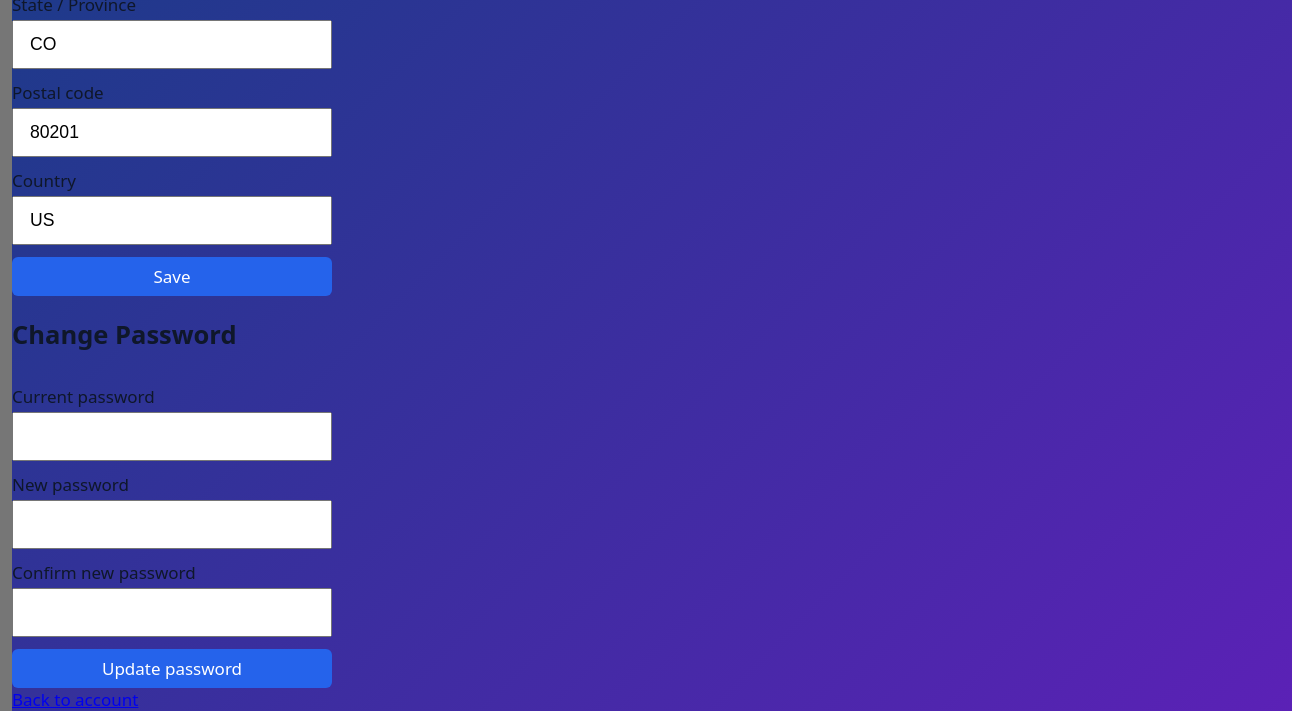
it: EditProfileView › Change Password › shows error when new passwords do not match
(page scrolled)
Type "oldpass1" into the password field labelled "Current password".
click(172, 436); type("oldpass1")  # box [12,412,332,461]
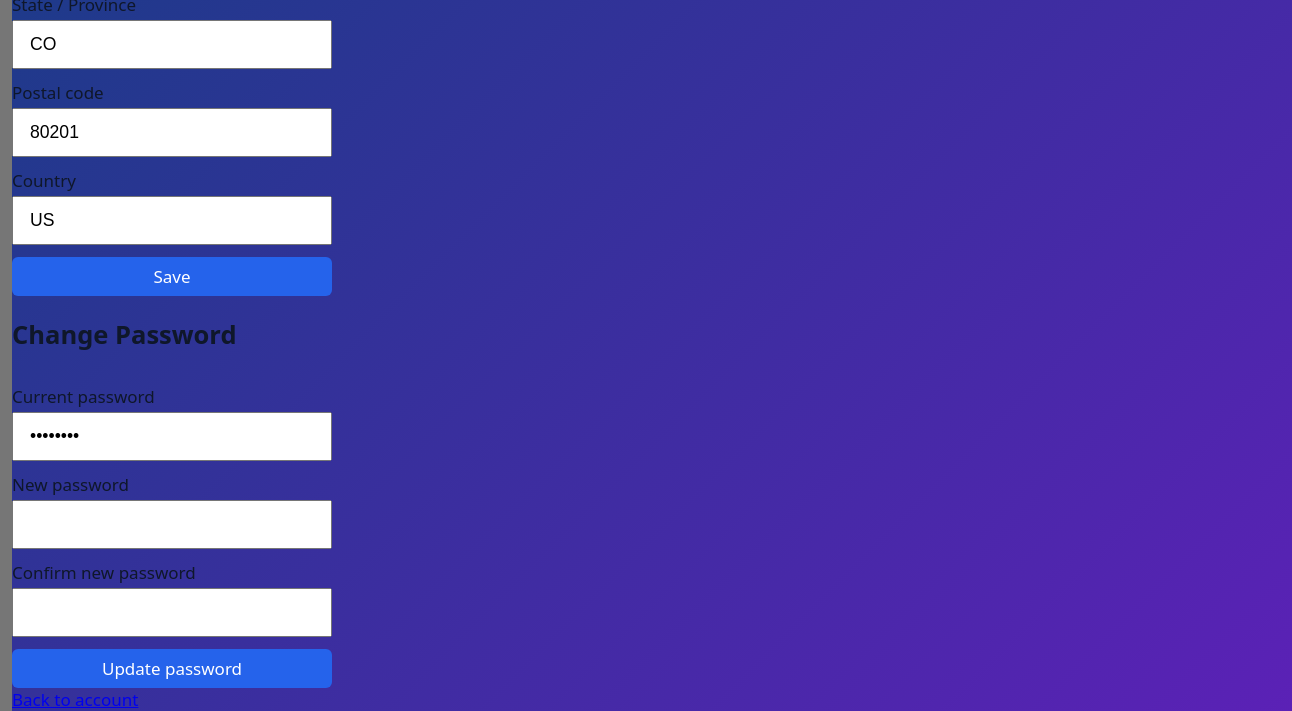
Type "newpass123" into the password field labelled "New password".
click(172, 524); type("newpass123")  # box [12,500,332,549]
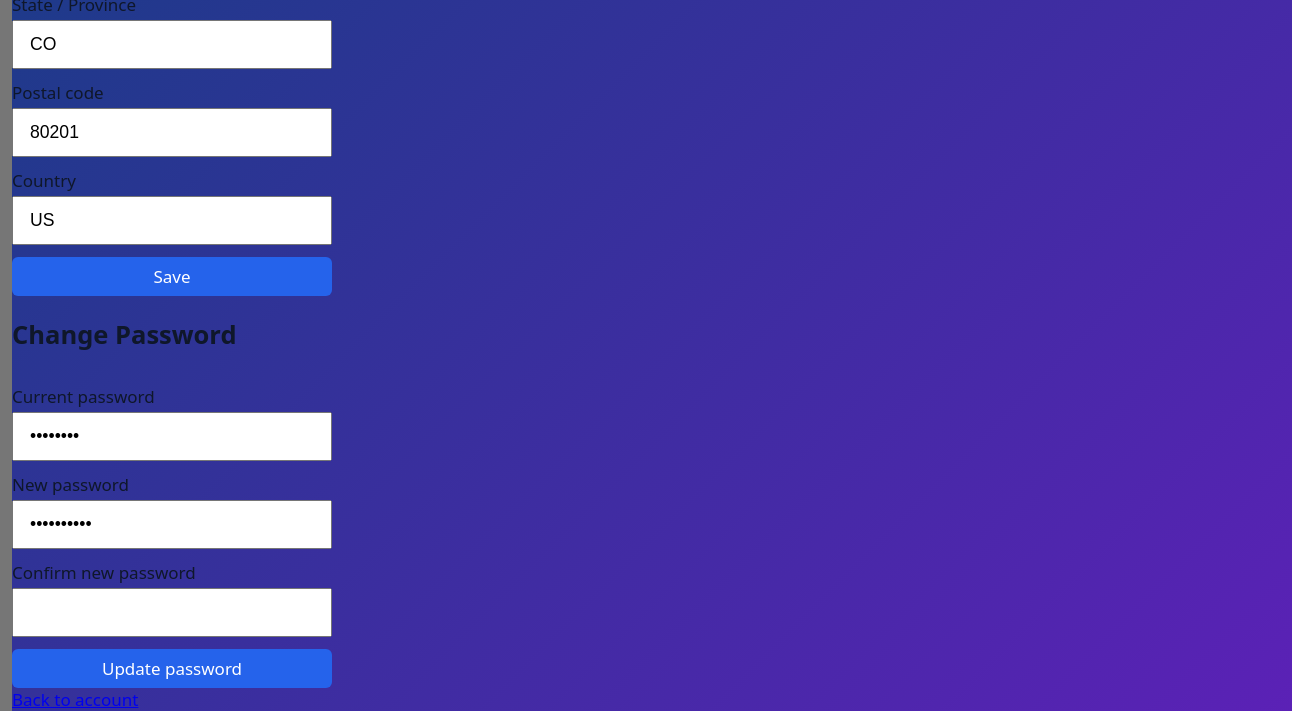
Type "different" into the password field labelled "Confirm new password".
click(172, 612); type("different")  # box [12,588,332,637]
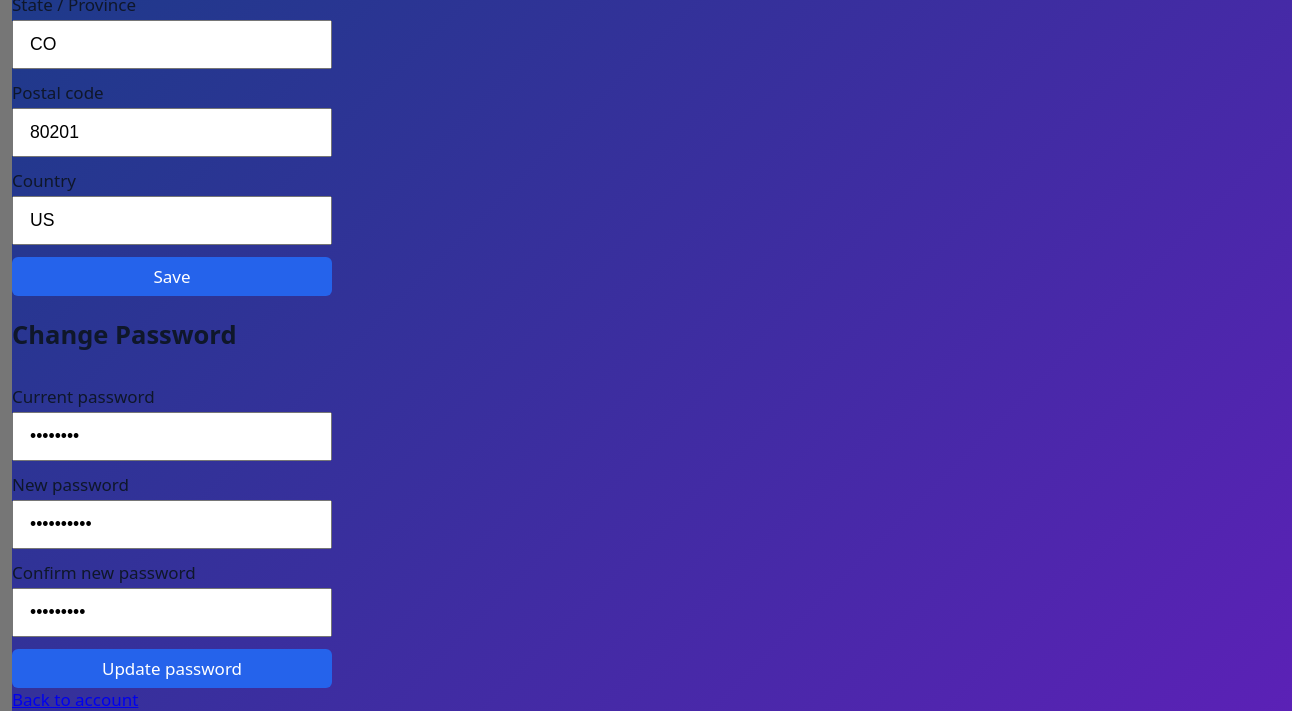
Submit the form that starts with "Change Password", box [12,296,332,688]
(page scrolled)
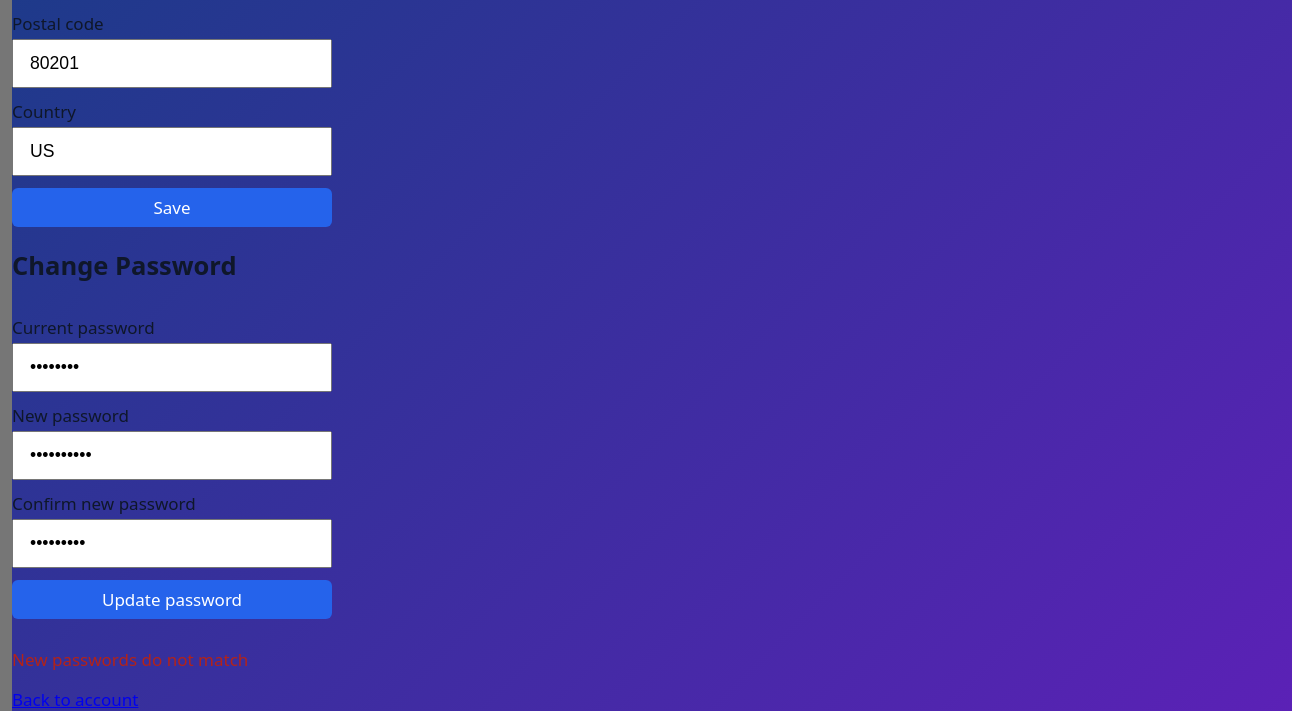
Expected: the message "New passwords do not match" is shown, [12,648,248,671]
